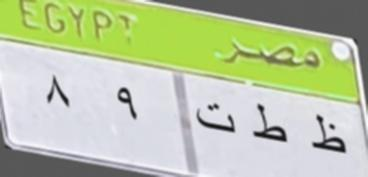8: (42, 69, 74, 114)
9: (106, 85, 146, 132)
Taa: (247, 100, 288, 160)
Thaa: (306, 107, 349, 164)
taa: (190, 96, 237, 141)
